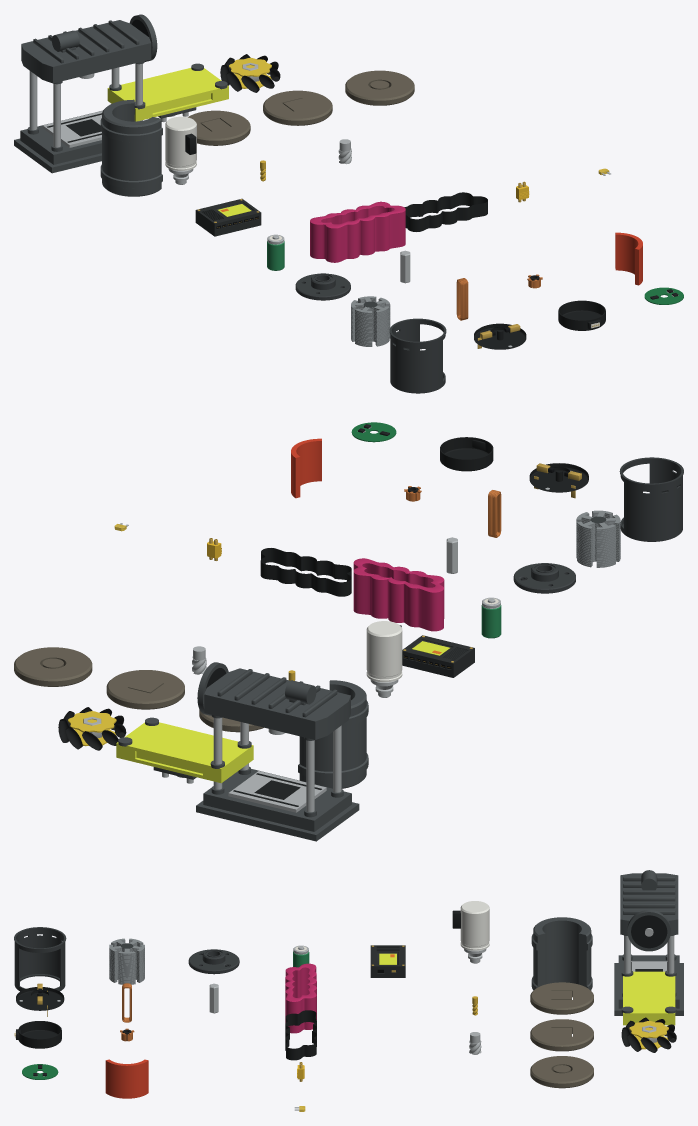
Rendered from parts.glb.
The picture shows the model from 3 angles, top to bottom: view 1: azimuth 30°, elevation 25°; view 2: azimuth 150°, elevation 25°; view 3: azimuth 270°, elevation 25°; orthographic projection. The views are drawn at different scales.
Parts seen in each view (by area): view 1: F_press, F_container, B_wrap, F_ram, M_can, B_label, F_die_tube, F_die_l, F_spindle, M_stack, HUB, F_die_u (+6 smaller); view 2: F_press, F_ram, B_wrap, M_can, F_container, B_label, F_die_l, F_die_tube, F_spindle, M_stack, HUB, W_mecanum (+7 smaller); view 3: F_press, F_container, F_ram, M_can, F_spindle, B_wrap, F_die_u, F_die_l, F_die_tube, M_magnet, M_stack, W_mecanum (+6 smaller).
Part boxes in pixels (x1=…): F_press: x1=14, y1=14, x2=157, y2=173; F_container: x1=100, y1=99, x2=162, y2=196; B_wrap: x1=310, y1=201, x2=405, y2=262; F_ram: x1=107, y1=63, x2=228, y2=122; M_can: x1=389, y1=318, x2=446, y2=393; B_label: x1=404, y1=192, x2=487, y2=231; F_die_tube: x1=345, y1=70, x2=414, y2=105; F_die_l: x1=263, y1=90, x2=332, y2=125; F_spindle: x1=165, y1=116, x2=196, y2=184; M_stack: x1=351, y1=296, x2=390, y2=346; HUB: x1=195, y1=198, x2=261, y2=236; F_die_u: x1=188, y1=110, x2=250, y2=145; F_press: x1=196, y1=662, x2=359, y2=841; F_ram: x1=116, y1=717, x2=253, y2=783; B_wrap: x1=353, y1=558, x2=444, y2=631; M_can: x1=619, y1=457, x2=683, y2=541; F_container: x1=298, y1=680, x2=368, y2=788; B_label: x1=260, y1=548, x2=351, y2=596; F_die_l: x1=106, y1=670, x2=184, y2=709; F_die_tube: x1=14, y1=647, x2=92, y2=686; F_spindle: x1=366, y1=621, x2=402, y2=697; M_stack: x1=576, y1=510, x2=620, y2=567; HUB: x1=402, y1=635, x2=474, y2=677; W_mecanum: x1=58, y1=707, x2=126, y2=750; F_press: x1=614, y1=870, x2=683, y2=1015; F_container: x1=531, y1=917, x2=592, y2=990; F_ram: x1=621, y1=970, x2=676, y2=1025; M_can: x1=14, y1=927, x2=66, y2=991; F_spindle: x1=452, y1=901, x2=489, y2=963; B_wrap: x1=285, y1=963, x2=316, y2=1033; F_die_u: x1=530, y1=982, x2=593, y2=1014; F_die_l: x1=530, y1=1019, x2=593, y2=1051; F_die_tube: x1=530, y1=1056, x2=593, y2=1088; M_magnet: x1=105, y1=1059, x2=148, y2=1098; M_stack: x1=109, y1=938, x2=144, y2=984; W_mecanum: x1=621, y1=1017, x2=676, y2=1052.
Size of the model in its own units: 28.2 by 8.45 by 46.2.
